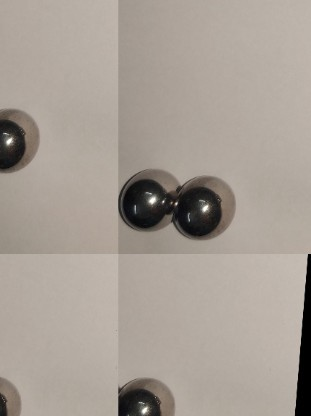ironball: (175, 173, 235, 242), (121, 164, 177, 231), (0, 108, 43, 172), (120, 374, 173, 416)
